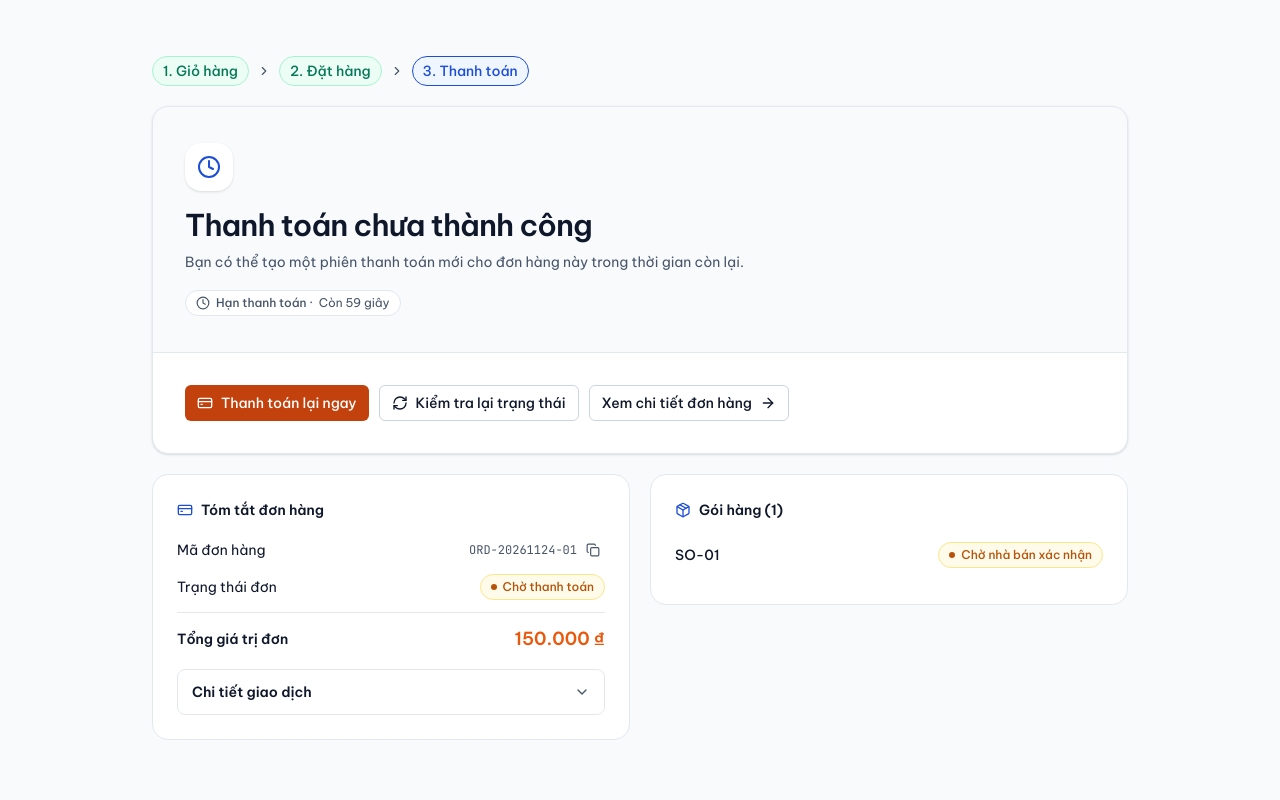
Test: Checkout payment result › uses the current order and attempt when retrying and refreshes if already captured
Click the button "Thanh toán lại ngay".
click(277, 403)  # box [185,385,369,421]
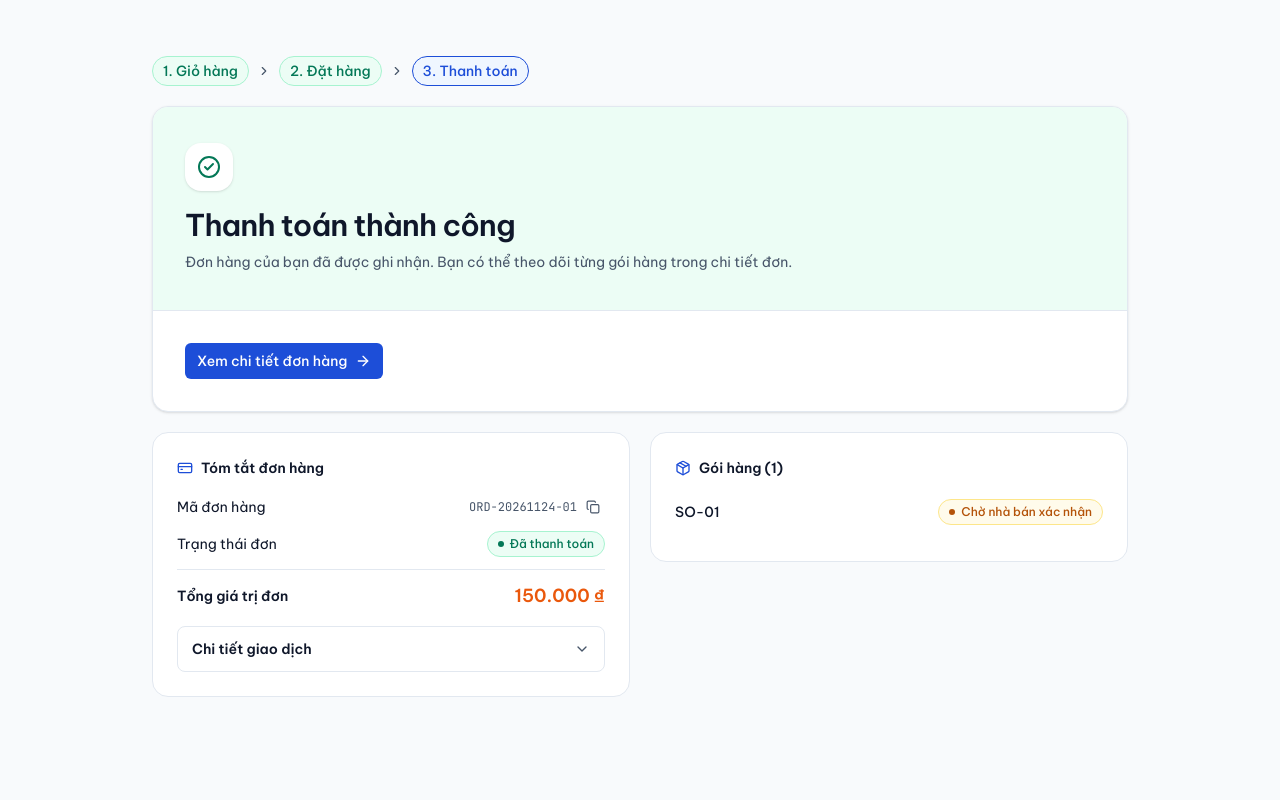
Check: the text "SO-01" is shown, box [675,502,720,522]
Check: the heading "Thanh toán thành công" is shown, box [185,206,515,244]
